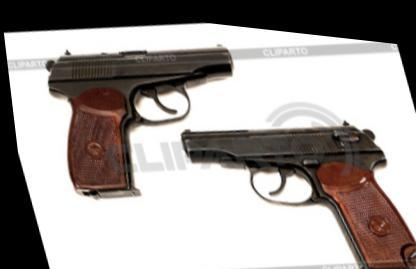pistol: (30, 10, 266, 215), (176, 85, 415, 267)
